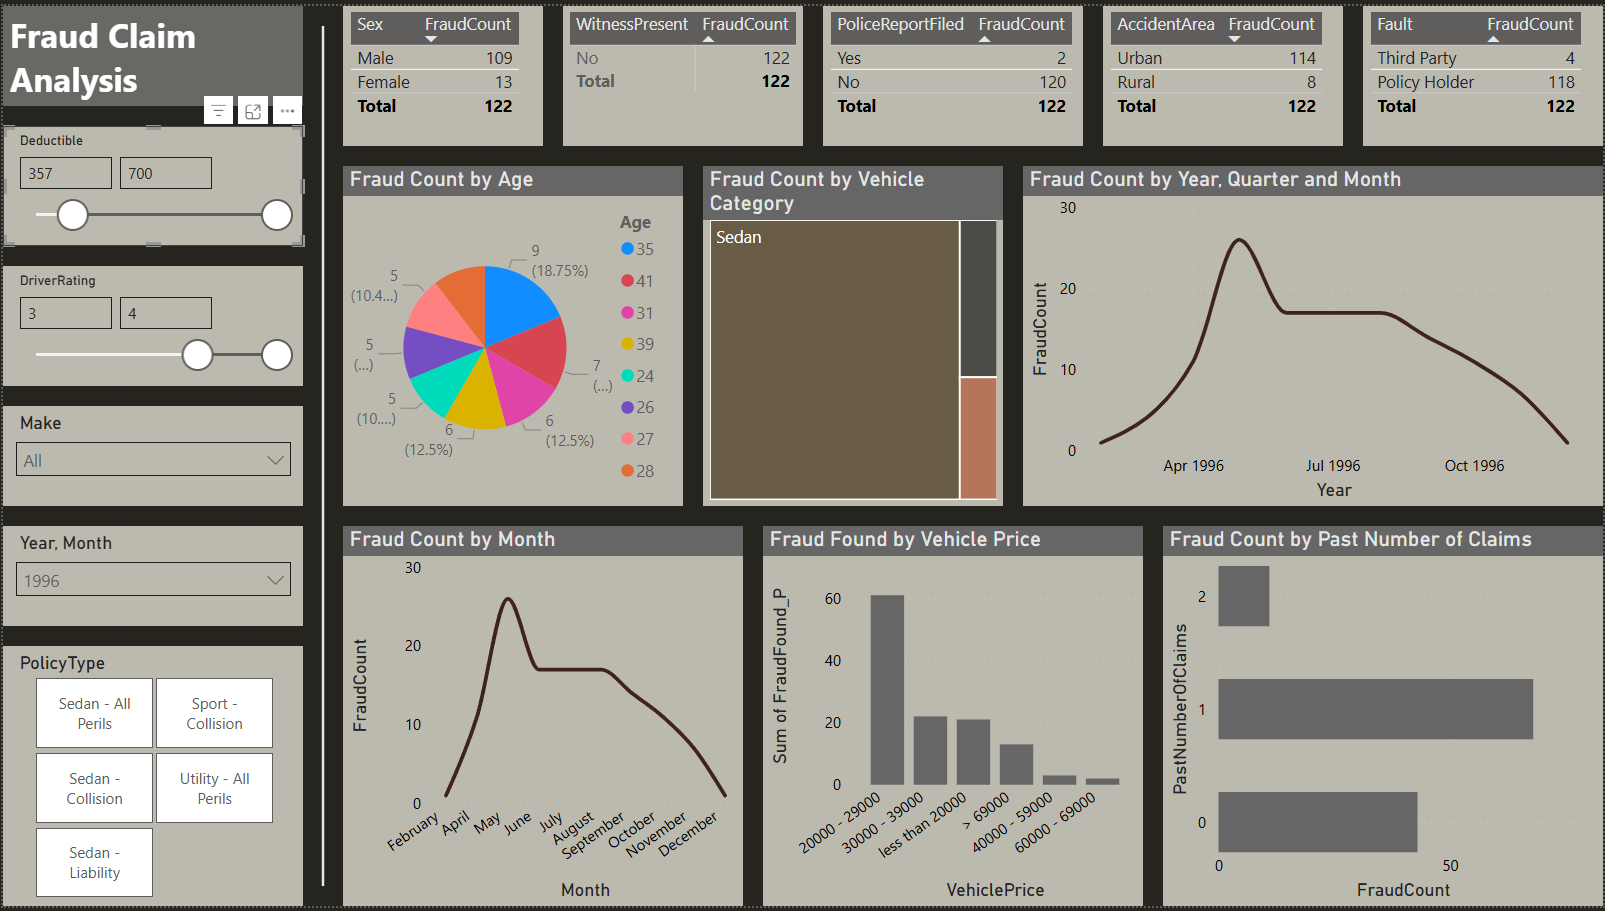

Layout of this report page (visuals, bound fields, positions):
{"tool":"powerbi","page":{"name":"Page 1","canvas":[1280,720],"ordinal":0},"visuals":[{"type":"lineChart","title":"Fraud Count by Year, Quarter and Month","fields":{"Y":["DAX.FraudCount"],"Category":["Calender.Date.Variation.Date Hierarchy.Year","Calender.Date.Variation.Date Hierarchy.Quarter","Calender.Date.Variation.Date Hierarchy.Month","Calender.Date.Variation.Date Hierarchy.Day"]},"box":[816,128,464,272],"z":0},{"type":"clusteredColumnChart","title":"Fraud Found by Vehicle Price","fields":{"Y":["Sum(FACT_ClaimFraud.FraudFound_P)"],"Category":["DIM_Vehicle.VehiclePrice"]},"box":[608,416,304,304],"z":1000},{"type":"pieChart","title":"Fraud Count by Age","fields":{"Category":["DIM_PolicyHolder.Age"],"Y":["DAX.FraudCount"]},"box":[272,128,272,272],"z":2000},{"type":"barChart","title":"Fraud Count by Past Number of Claims","fields":{"Category":["FACT_ClaimFraud.PastNumberOfClaims"],"Y":["DAX.FraudCount"]},"box":[928,416,352,304],"z":3000},{"type":"slicer","title":"DEDUCTIBLE","fields":{"Values":["FACT_ClaimFraud.Deductible"]},"box":[0,96,240,96],"z":4000},{"type":"slicer","fields":{"Values":["FACT_ClaimFraud.DriverRating"]},"box":[0,208,240,96],"z":5000},{"type":"slicer","fields":{"Values":["DIM_Vehicle.Make"]},"box":[0,320,240,80],"z":6000},{"type":"slicer","fields":{"Values":["DIM_Vehicle.PolicyType"]},"box":[0,512,240,208],"z":7000},{"type":"tableEx","fields":{"Values":["DIM_Incident.Fault","DAX.FraudCount"]},"box":[1088,0,192,112],"z":8000},{"type":"lineChart","title":"Fraud Count by Month","fields":{"Y":["DAX.FraudCount"],"Category":["Calender.Date.Variation.Date Hierarchy.Month"]},"box":[272,416,320,304],"z":9000},{"type":"slicer","fields":{"Values":["Calender.Date.Variation.Date Hierarchy.Year","Calender.Date.Variation.Date Hierarchy.Month"]},"box":[0,416,240,80],"z":10000},{"type":"pivotTable","fields":{"Rows":["DIM_Incident.WitnessPresent"],"Values":["DAX.FraudCount"]},"box":[448,0,192,112],"z":11000},{"type":"tableEx","fields":{"Values":["DIM_Incident.PoliceReportFiled","DAX.FraudCount"]},"box":[656,0,208,112],"z":12000},{"type":"tableEx","fields":{"Values":["DIM_Incident.AccidentArea","DAX.FraudCount"]},"box":[880,0,192,112],"z":13000},{"type":"tableEx","fields":{"Values":["DIM_PolicyHolder.Sex","DAX.FraudCount"]},"box":[272,0,160,112],"z":14000},{"type":"treemap","title":"Fraud Count by Vehicle Category","fields":{"Group":["DIM_Vehicle.VehicleCategory"],"Values":["DAX.FraudCount"]},"box":[560,128,240,272],"z":15000},{"type":"shape","box":[240,16,32,688],"z":16000},{"type":"textbox","box":[0,0,240,80],"z":17000}]}

Visuals, with their boxes in screenshot pixels (x1, y1, x2, y2), scaled from the page's 1280x720 canvas onto the 1605x911 screenshot:
"Fraud Count by Year, Quarter and Month" lineChart: box(1023, 162, 1604, 506)
"Fraud Found by Vehicle Price" clusteredColumnChart: box(762, 526, 1144, 910)
"Fraud Count by Age" pieChart: box(341, 162, 682, 506)
"Fraud Count by Past Number of Claims" barChart: box(1164, 526, 1604, 910)
"DEDUCTIBLE" slicer: box(0, 121, 301, 243)
slicer - FACT_ClaimFraud.DriverRating: box(0, 263, 301, 385)
slicer - DIM_Vehicle.Make: box(0, 405, 301, 506)
slicer - DIM_Vehicle.PolicyType: box(0, 648, 301, 910)
tableEx - DIM_Incident.Fault x DAX.FraudCount: box(1364, 0, 1604, 142)
"Fraud Count by Month" lineChart: box(341, 526, 742, 910)
slicer - Calender.Date.Variation.Date Hierarchy.Year x Calender.Date.Variation.Date Hierarchy.Month: box(0, 526, 301, 628)
pivotTable - DIM_Incident.WitnessPresent x DAX.FraudCount: box(562, 0, 802, 142)
tableEx - DIM_Incident.PoliceReportFiled x DAX.FraudCount: box(823, 0, 1083, 142)
tableEx - DIM_Incident.AccidentArea x DAX.FraudCount: box(1103, 0, 1344, 142)
tableEx - DIM_PolicyHolder.Sex x DAX.FraudCount: box(341, 0, 542, 142)
"Fraud Count by Vehicle Category" treemap: box(702, 162, 1003, 506)
shape: box(301, 20, 341, 891)
textbox: box(0, 0, 301, 101)
